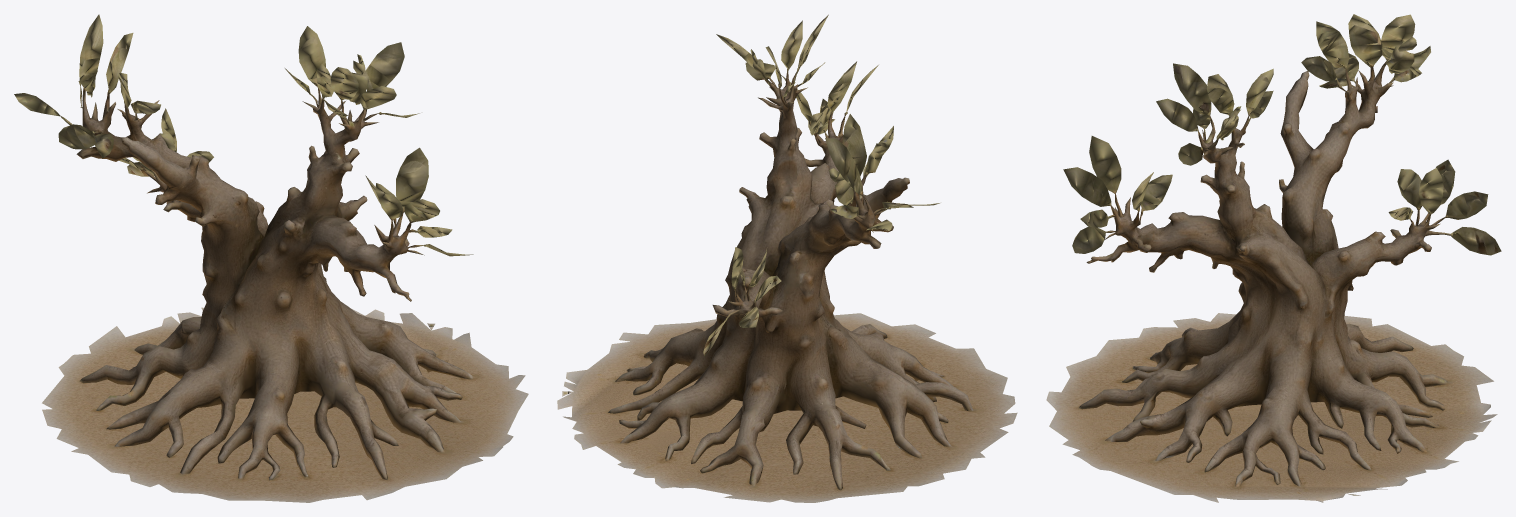
Rendered from plant (3).glb.
3 views of the same model, side by side, from view 1: azimuth 30°, elevation 25°; view 2: azimuth 150°, elevation 25°; view 3: azimuth 270°, elevation 25° (orthographic). The views are drawn at different scales.
Parts seen in each view (by area): view 1: tripo_node_1b079fe1-28fd-4a40-92be-6c50503a9dd5; view 2: tripo_node_1b079fe1-28fd-4a40-92be-6c50503a9dd5; view 3: tripo_node_1b079fe1-28fd-4a40-92be-6c50503a9dd5.
Part boxes in pixels (left/top/right/bottom): tripo_node_1b079fe1-28fd-4a40-92be-6c50503a9dd5: left=14, top=14, right=528, bottom=502; tripo_node_1b079fe1-28fd-4a40-92be-6c50503a9dd5: left=557, top=14, right=1017, bottom=502; tripo_node_1b079fe1-28fd-4a40-92be-6c50503a9dd5: left=1046, top=14, right=1501, bottom=502.
Bounding box in the file's own units: 0.998 × 0.8809 × 0.998.
1 material, 1 textured.
